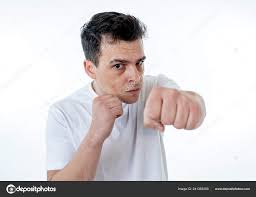white_male: (90, 27, 150, 107)
